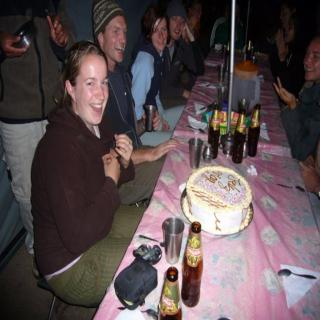Cake: (179, 164, 257, 233)
